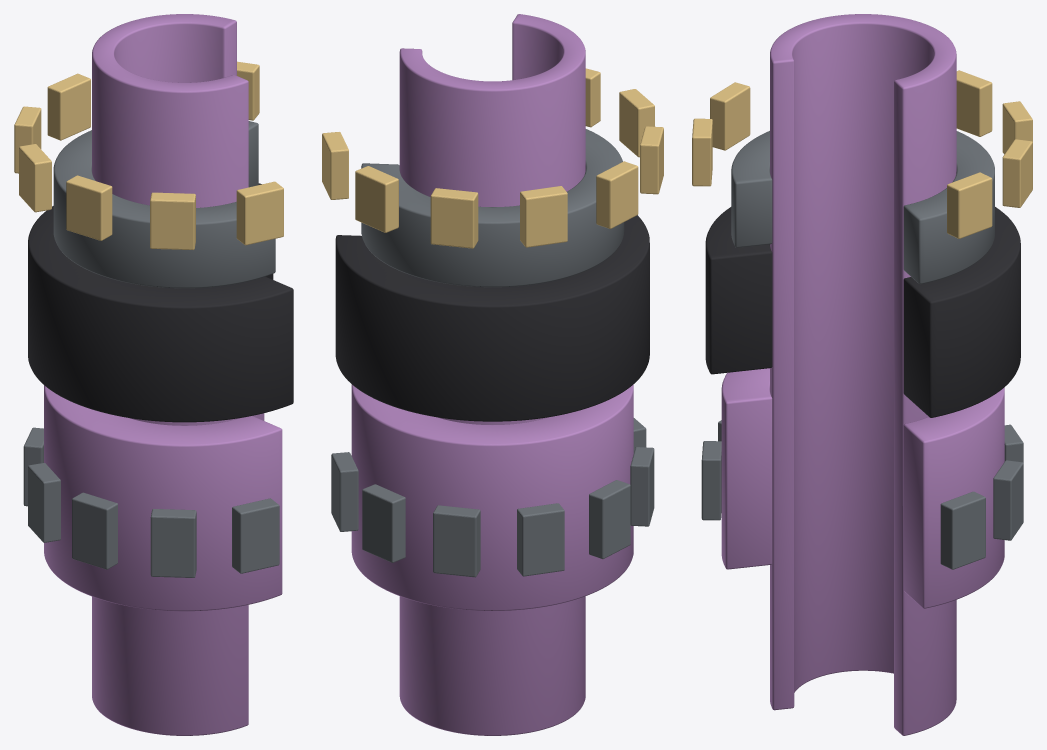
File: liner-top-packer.glb
3 views of the same model, side by side, from view 1: azimuth 30°, elevation 25°; view 2: azimuth 150°, elevation 25°; view 3: azimuth 270°, elevation 25° (orthographic).
Parts seen in each view (by area): view 1: Liner hanger mandrel, Packer element, Hanger body, Hold-down cone, Liner hanger slip 7, Liner hanger slip 6, Liner hanger slip 5, Hold down slip 7, Hold down slip 5, Hold down slip 6, Hold down slip 2, Liner hanger slip 4 (+4 smaller); view 2: Liner hanger mandrel, Packer element, Hanger body, Hold-down cone, Liner hanger slip 2, Liner hanger slip 3, Liner hanger slip 1, Liner hanger slip 4, Hold down slip 2, Hold down slip 3, Hold down slip 1, Hold down slip 4 (+6 smaller); view 3: Liner hanger mandrel, Packer element, Hanger body, Hold-down cone, Liner hanger slip 0, Hold down slip 0, Hold down slip 6, Liner hanger slip 1, Hold down slip 3, Hold down slip 1, Liner hanger slip 7, Hold down slip 7 (+2 smaller).
Part boxes in pixels (box(x1,y1,x2,y2)): Liner hanger mandrel: box(92, 14, 248, 735); Packer element: box(28, 183, 293, 422); Hanger body: box(44, 385, 282, 611); Hold-down cone: box(53, 121, 275, 288); Liner hanger slip 7: box(232, 498, 279, 573); Liner hanger slip 6: box(150, 509, 196, 577); Liner hanger slip 5: box(72, 492, 117, 569); Hold down slip 7: box(236, 181, 283, 245); Hold down slip 5: box(66, 175, 112, 240); Hold down slip 6: box(150, 192, 195, 249); Hold down slip 2: box(47, 73, 90, 140); Liner hanger slip 4: box(28, 463, 60, 542); Liner hanger mandrel: box(399, 14, 585, 735); Packer element: box(335, 215, 649, 421); Hanger body: box(351, 384, 633, 610); Hold-down cone: box(361, 129, 624, 287); Liner hanger slip 2: box(433, 505, 480, 577); Liner hanger slip 3: box(517, 503, 564, 576); Liner hanger slip 1: box(362, 484, 405, 562); Liner hanger slip 4: box(589, 480, 630, 559); Hold down slip 2: box(430, 188, 478, 248); Hold down slip 3: box(520, 186, 567, 247); Hold down slip 1: box(355, 166, 398, 232); Hold down slip 4: box(596, 161, 638, 228); Liner hanger mandrel: box(770, 14, 956, 735); Packer element: box(705, 207, 1020, 417); Hanger body: box(721, 368, 1004, 608); Hold-down cone: box(731, 131, 994, 284); Liner hanger slip 0: box(940, 491, 985, 569); Hold down slip 0: box(947, 172, 992, 238); Hold down slip 6: box(710, 82, 750, 150); Liner hanger slip 1: box(993, 460, 1023, 540); Hold down slip 3: box(956, 70, 992, 136); Hold down slip 1: box(1002, 139, 1032, 207); Liner hanger slip 7: box(701, 441, 721, 520); Hold down slip 7: box(692, 118, 712, 186).
Size of the model in its own units: 1.95 by 4.45 by 2.12.
